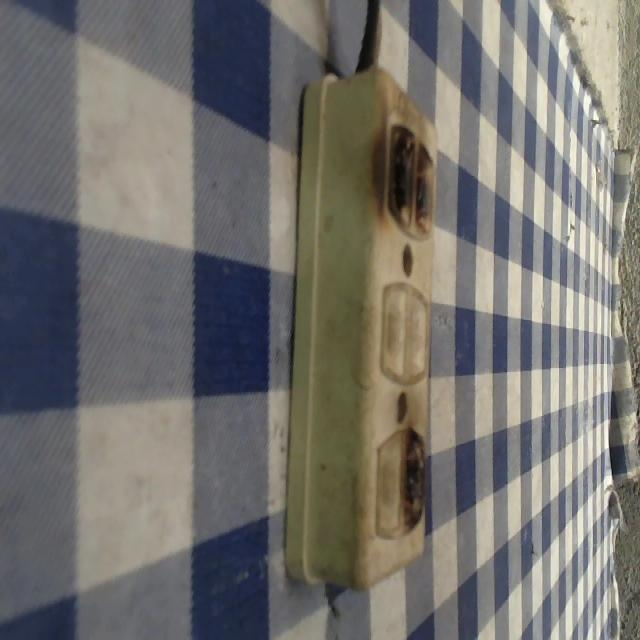-: (366, 106, 442, 242), (395, 424, 427, 535)
